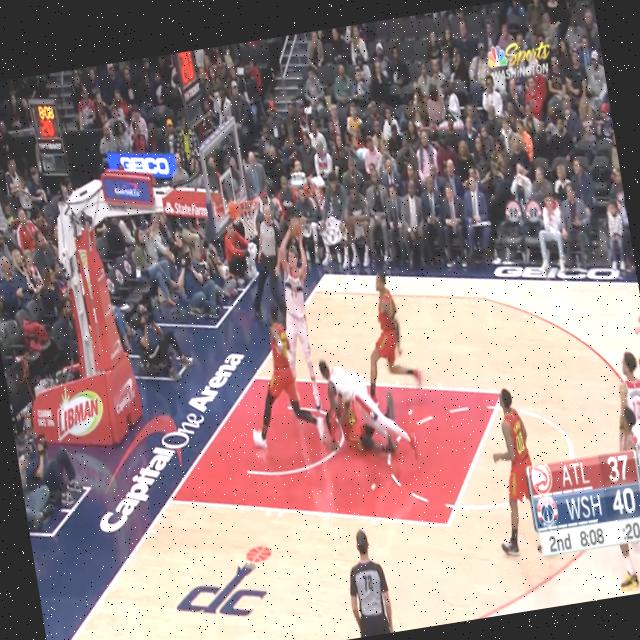foul: (299, 336, 440, 491)
no foul: (225, 249, 336, 514)
